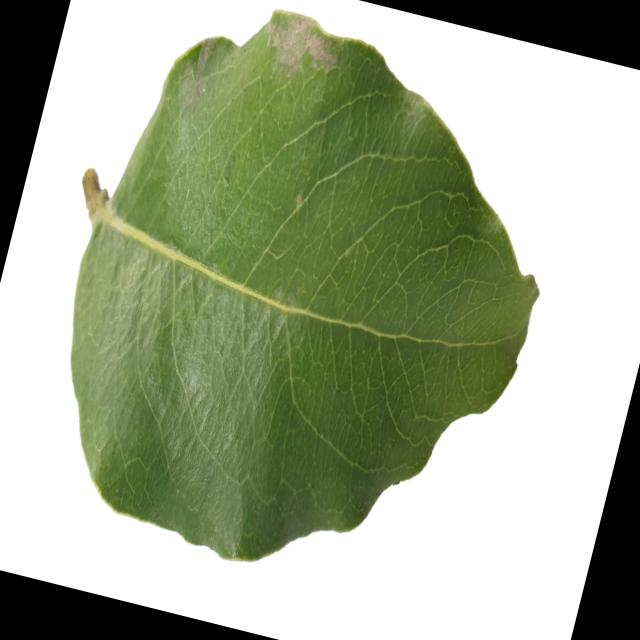Medicinal-Sandalwood: (2, 0, 590, 615)
